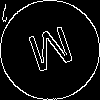M: (25, 25, 80, 82)
